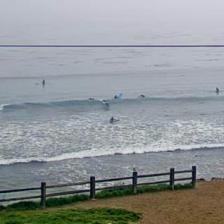surfer: (109, 116, 115, 122), (138, 94, 145, 98), (42, 79, 46, 86), (215, 87, 219, 93), (114, 94, 118, 99), (88, 97, 94, 100), (103, 100, 109, 102)
